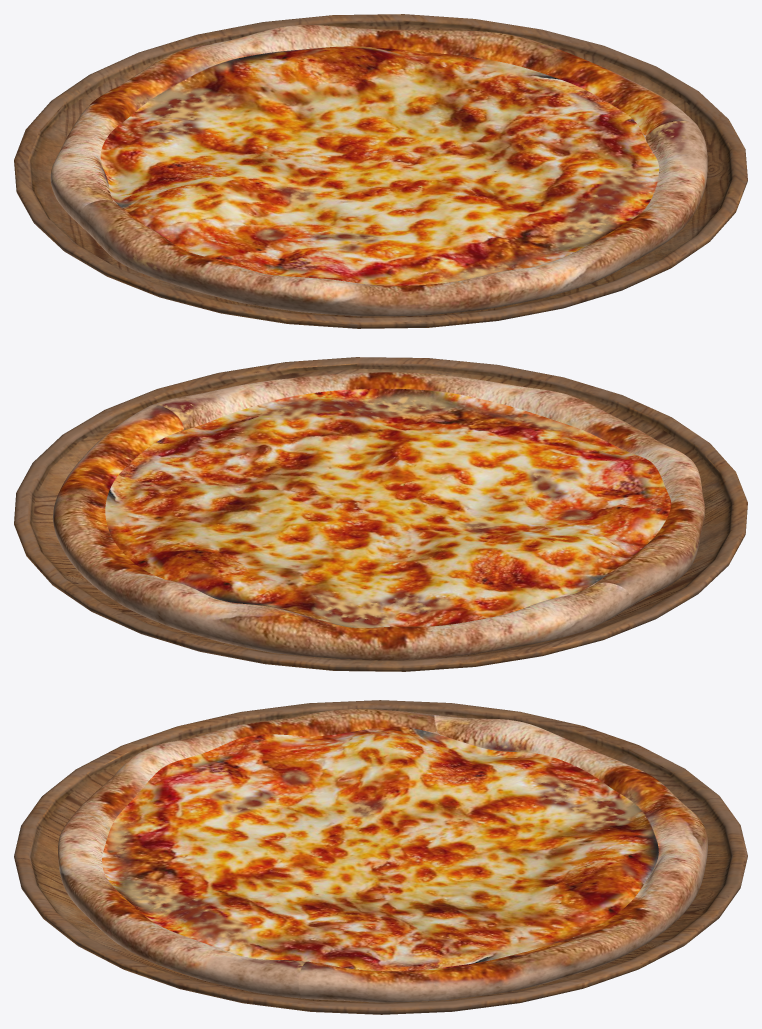
3 views of the same model, one above another, from view 1: azimuth 30°, elevation 25°; view 2: azimuth 150°, elevation 25°; view 3: azimuth 270°, elevation 25° (orthographic).
Parts seen in each view (by area): view 1: piza_low_01:Group259; view 2: piza_low_01:Group259; view 3: piza_low_01:Group259.
Part boxes in pixels (bbox=[...]): piza_low_01:Group259: bbox=[14, 14, 747, 328]; piza_low_01:Group259: bbox=[14, 357, 747, 671]; piza_low_01:Group259: bbox=[14, 700, 747, 1014].
Bounding box in the file's own units: 0.3 × 0.03 × 0.3.
2 materials, 2 textured.
